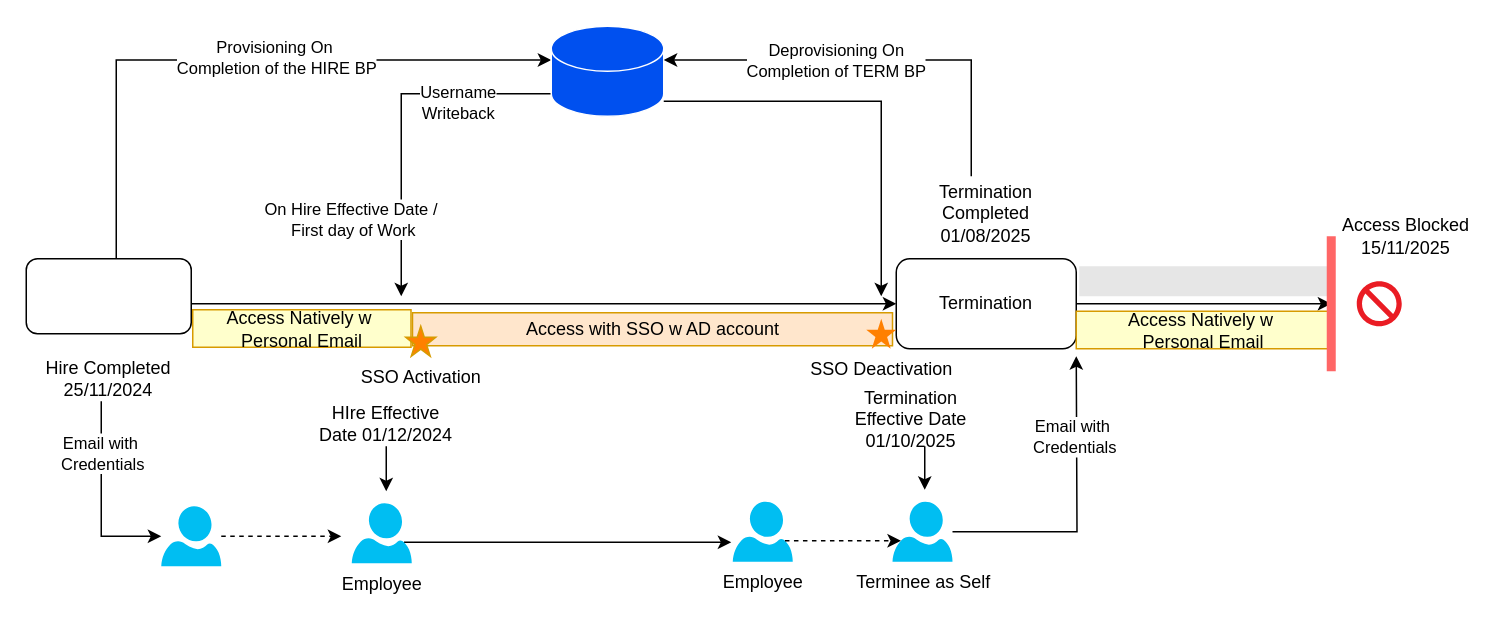
This 1508x624 diagram has some shape labels left out. Each missing label, with the centre of its shape:
"+ 45 Days" goes at point (1204, 281).
"AD" goes at point (607, 70).
"New HIre" goes at point (108, 295).
"No Access" goes at point (1378, 303).
"Pre Employee" goes at point (190, 536).
